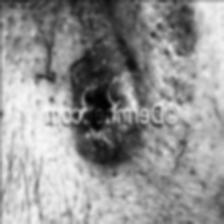Potentially Malignant Skin Tumors: (63, 54, 141, 105)
